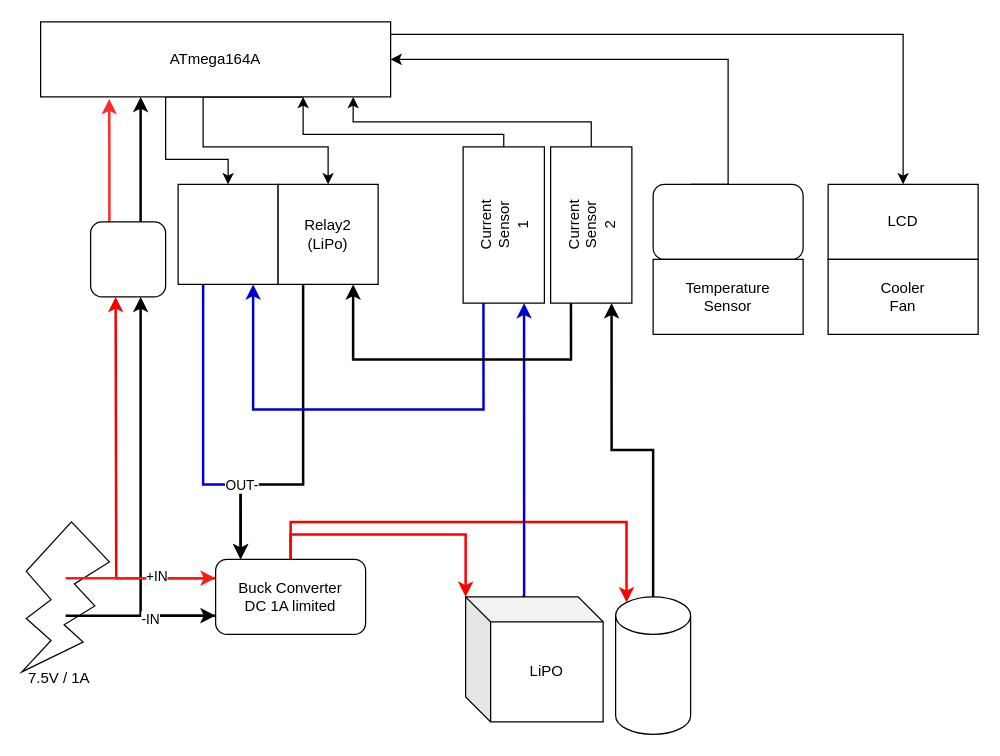
Image size: 1000x756. Some labels were removed from this diagram. The centre of each missing label's shape, as x and y in pixels:
"NiMH" goes at (652,665).
"Relay1 (NiMH)" goes at (227,233).
"User Interface (Buttons, Switches)" goes at (727,221).
"Voltage Regulator 5V" goes at (127,259).
